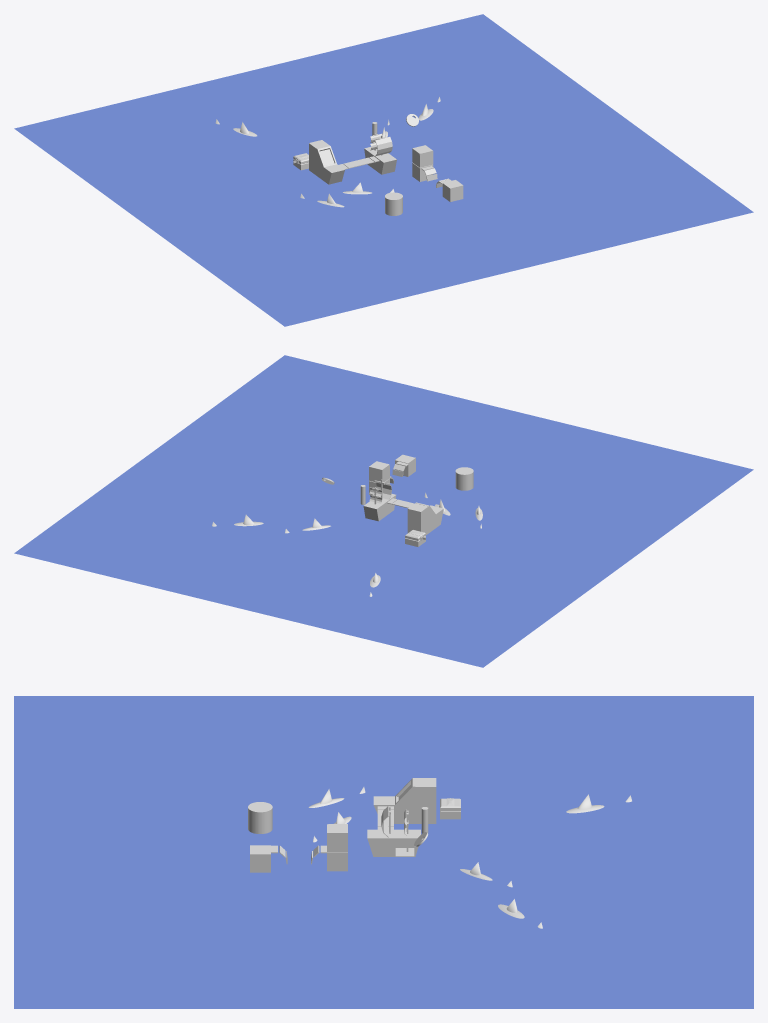
The model's file is 裸眼3d桌危险.fbx.
3 renders of one model, top to bottom at view 1: azimuth 30°, elevation 25°; view 2: azimuth 150°, elevation 25°; view 3: azimuth 270°, elevation 25°, orthographic. The views are drawn at different scales.
Parts seen in each view (by area): view 1: 平面; view 2: 平面; view 3: 平面, 柱体.009, Cube.004, Cube.017, Cube.028, Cube.010, Cube.013.
Part boxes in pixels (x1,y1,x2,y2): 平面: [14, 14, 753, 326]; 平面: [14, 355, 753, 667]; 平面: [14, 696, 753, 1008]; 柱体.009: [248, 802, 272, 833]; Cube.004: [367, 829, 394, 856]; Cube.017: [394, 829, 420, 856]; Cube.028: [415, 778, 436, 805]; Cube.010: [250, 845, 270, 872]; Cube.013: [327, 824, 347, 851].
Bounding box in the file's own units: 4331 × 745 × 4331.
